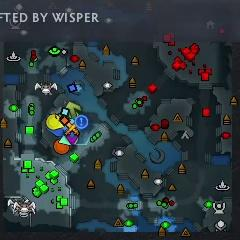Other: (63, 119, 80, 134), (75, 114, 88, 129)
p1: (49, 125, 70, 137)
p2: (58, 135, 79, 144)
p3: (65, 132, 78, 144)
p4: (47, 113, 63, 130)
p5: (54, 139, 71, 155)
x2: (64, 100, 83, 119)
